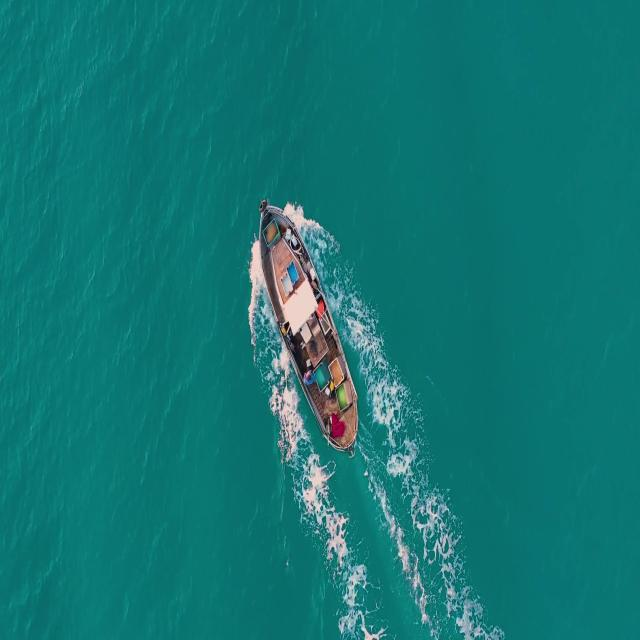ship: (255, 198, 359, 454)
